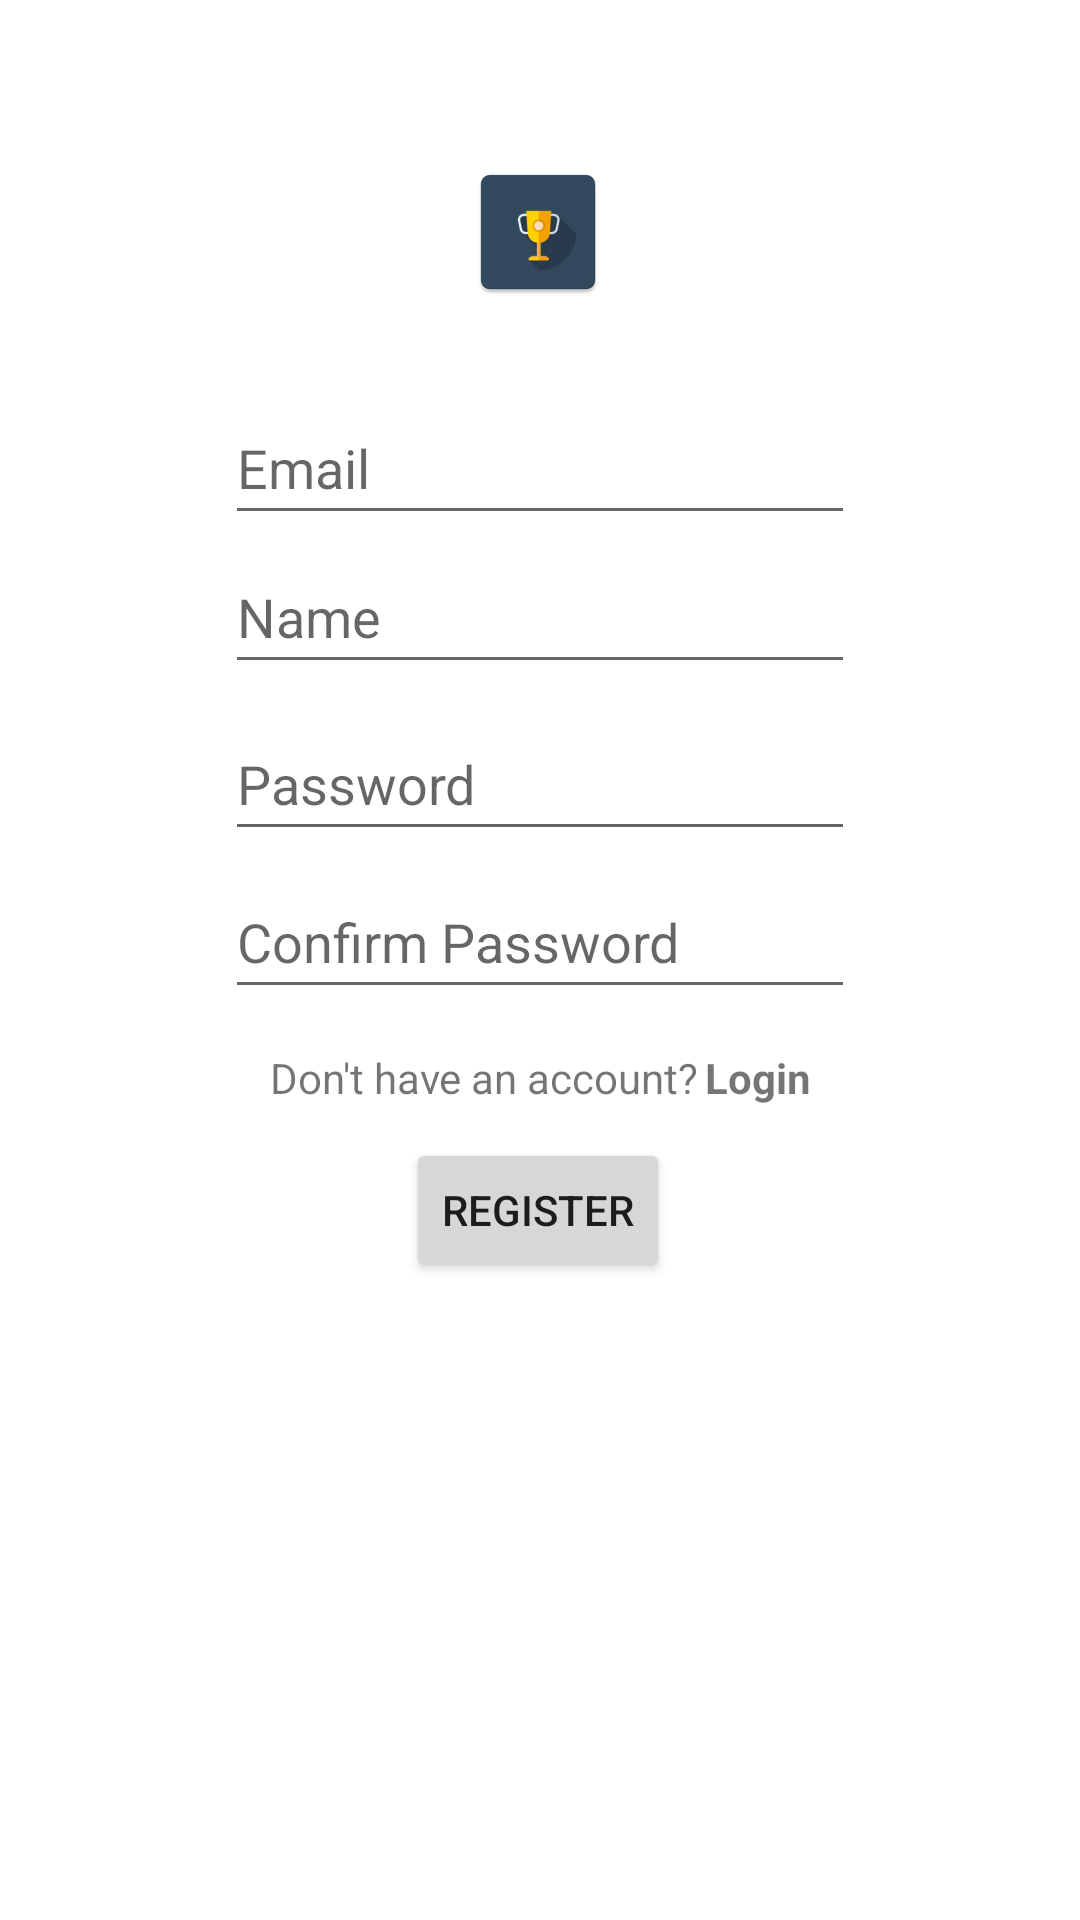

Point at icon controls on the screen. Image size 1080w x 1920h, points as point (x, y).
app icon: point (538, 233)
